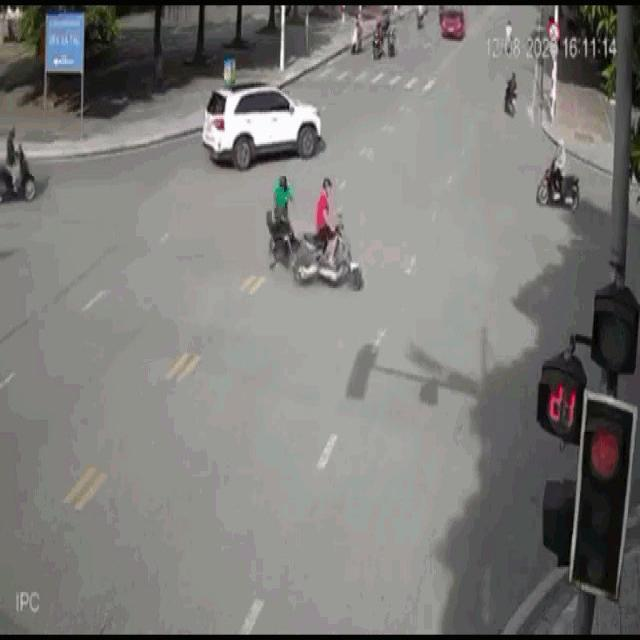multiple_accident: (263, 166, 366, 299)
